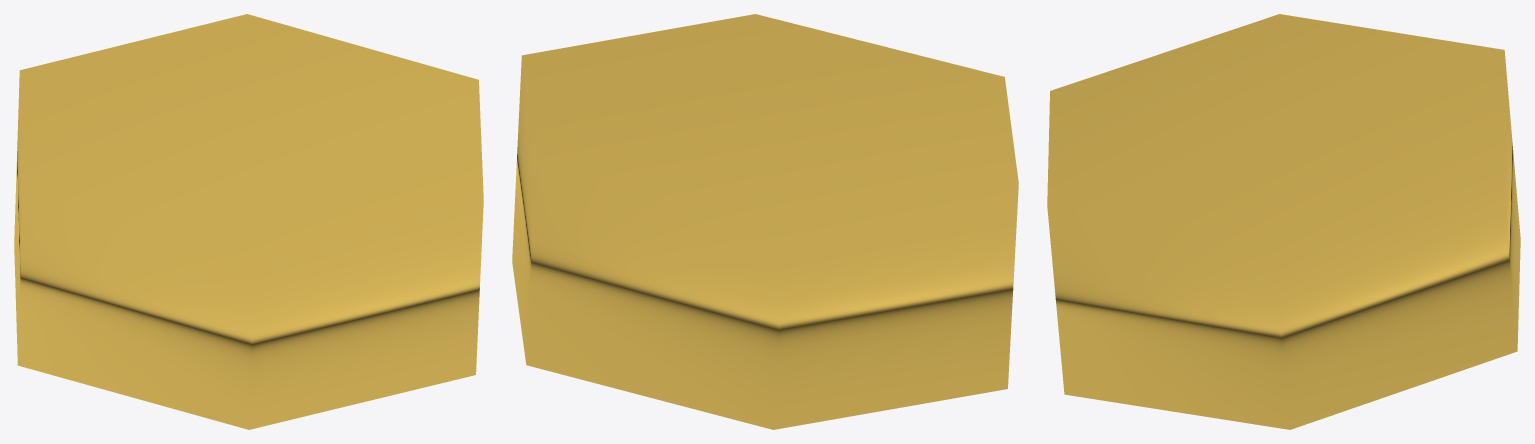
File: puzz_spinner_v2.gltf
The picture shows the model from 3 angles, left to right: view 1: azimuth 30°, elevation 25°; view 2: azimuth 150°, elevation 25°; view 3: azimuth 270°, elevation 25°; orthographic projection. The views are drawn at different scales.
Visible parts, largest first — view 1: puzz_v2.014; view 2: puzz_v2.014; view 3: puzz_v2.014.
Boxes of the visible parts, <box> form: puzz_v2.014: <box>14,14,483,429</box>; puzz_v2.014: <box>512,14,1018,429</box>; puzz_v2.014: <box>1047,14,1520,429</box>.
Bounding box in the file's own units: 35.17 × 15.84 × 30.49.
